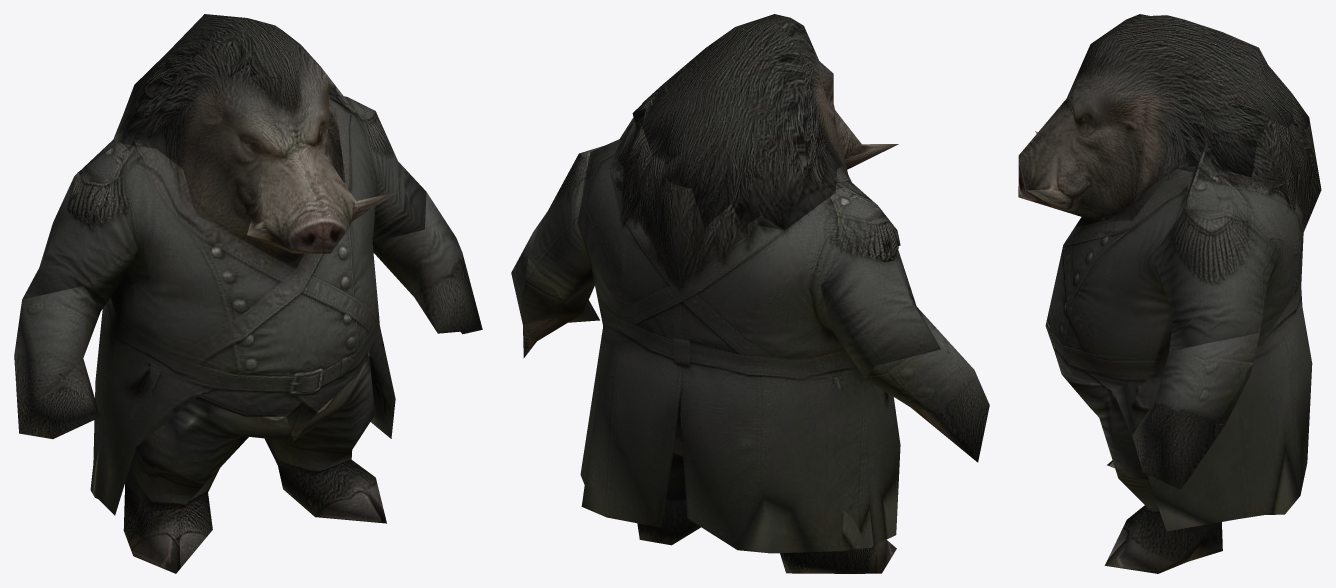
File: cavalry_base_gibs.glb
3 renders of one model, left to right at view 1: azimuth 30°, elevation 25°; view 2: azimuth 150°, elevation 25°; view 3: azimuth 270°, elevation 25°, orthographic. The views are drawn at different scales.
Parts seen in each view (by area): view 1: Body.001, Head.001, Forarm.R.001, Upleg.R.001, Arm.R.001, Forarm.L.001, Upleg.L.001, Leg.R.001, Leg.L.001, Arm.L.001; view 2: Body.001, Head.001, Arm.R.001, Forarm.R.001, Arm.L.001, Forarm.L.001, Leg.R.001, Leg.L.001, Upleg.L.001; view 3: Body.001, Head.001, Arm.L.001, Forarm.L.001, Leg.L.001, Upleg.L.001.
Part boxes in pixels (<box>): Body.001: <box>55,67,395,515</box>; Head.001: <box>113,14,396,253</box>; Forarm.R.001: <box>14,286,100,439</box>; Upleg.R.001: <box>125,399,293,511</box>; Arm.R.001: <box>22,172,138,310</box>; Forarm.L.001: <box>372,192,482,334</box>; Upleg.L.001: <box>264,352,374,475</box>; Leg.R.001: <box>123,484,212,573</box>; Leg.L.001: <box>278,460,386,523</box>; Arm.L.001: <box>347,97,426,241</box>; Body.001: <box>577,103,900,553</box>; Head.001: <box>619,14,898,230</box>; Arm.R.001: <box>820,207,940,378</box>; Forarm.R.001: <box>866,307,989,462</box>; Arm.L.001: <box>528,146,603,304</box>; Forarm.L.001: <box>511,232,599,358</box>; Leg.R.001: <box>780,540,896,573</box>; Leg.L.001: <box>637,499,700,545</box>; Upleg.L.001: <box>666,451,685,500</box>; Body.001: <box>1045,119,1321,531</box>; Head.001: <box>1018,14,1309,220</box>; Arm.L.001: <box>1152,209,1279,351</box>; Forarm.L.001: <box>1132,333,1259,489</box>; Leg.L.001: <box>1104,505,1222,573</box>; Upleg.L.001: <box>1062,374,1159,513</box>.
Bounding box in the file's own units: 0.8751 × 0.9466 × 0.5259.
Materials: 2 (1 with a texture image).
